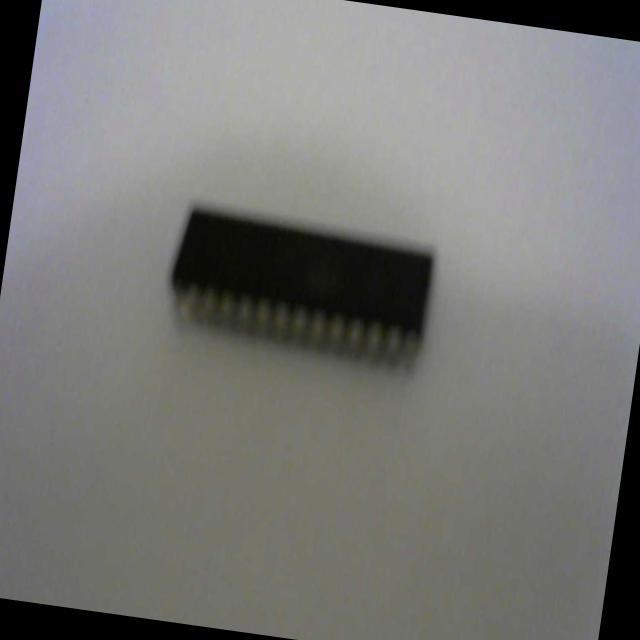atmega: (160, 196, 442, 380)
